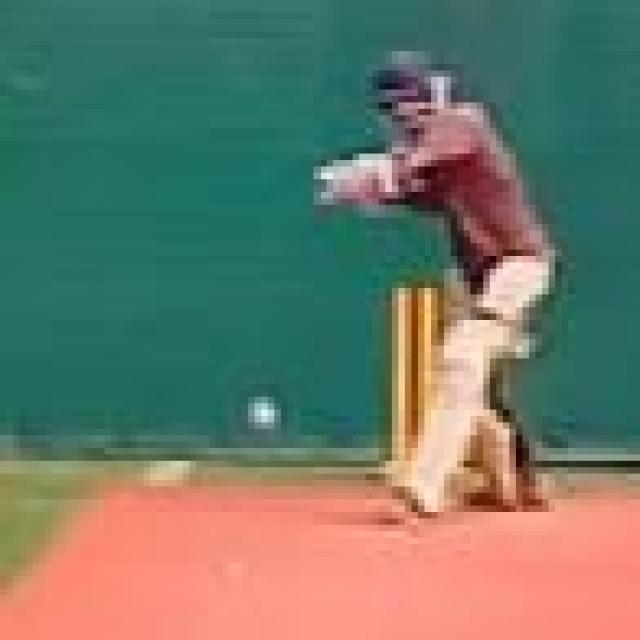ball: (232, 386, 293, 442)
